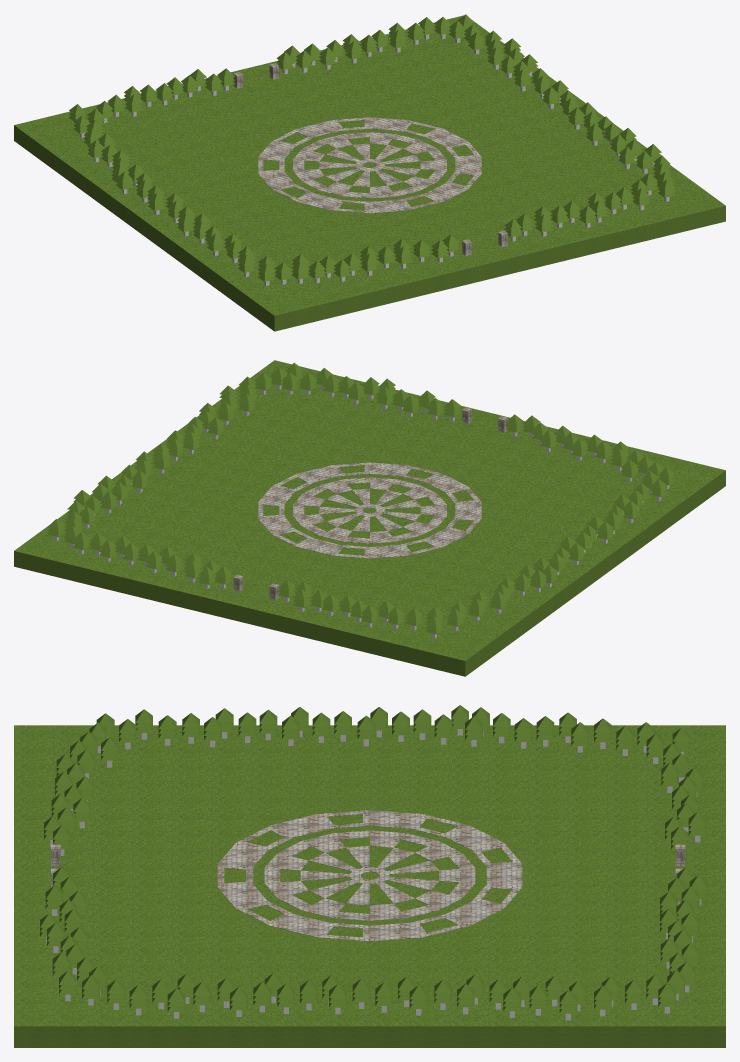
File: Sougen_1_Boss.fbx
3 renders of one model, top to bottom at view 1: azimuth 30°, elevation 25°; view 2: azimuth 150°, elevation 25°; view 3: azimuth 270°, elevation 25°, orthographic. The views are drawn at different scales.
Visible parts, largest first — view 1: Box001, Cylinder001; view 2: Box001, Cylinder001; view 3: Box001, Cylinder001.
Boxes of the visible parts, left/top/right/bottom form: Box001: left=14, top=15, right=725, bottom=331; Cylinder001: left=258, top=117, right=481, bottom=213; Box001: left=14, top=360, right=725, bottom=676; Cylinder001: left=258, top=462, right=481, bottom=558; Box001: left=14, top=725, right=725, bottom=1047; Cylinder001: left=217, top=810, right=522, bottom=941.
Size of the model in its own units: 600 by 600 by 47.15.
